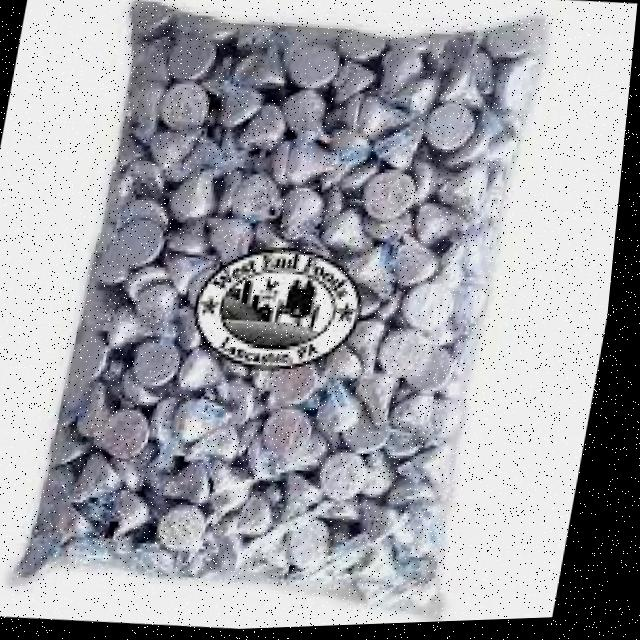kisses: (259, 404, 330, 477), (381, 323, 445, 390), (325, 447, 384, 511), (134, 332, 192, 394), (286, 138, 350, 189), (80, 451, 134, 511), (172, 169, 229, 222), (213, 80, 269, 130), (328, 206, 377, 261), (323, 388, 373, 438), (401, 247, 454, 292)
